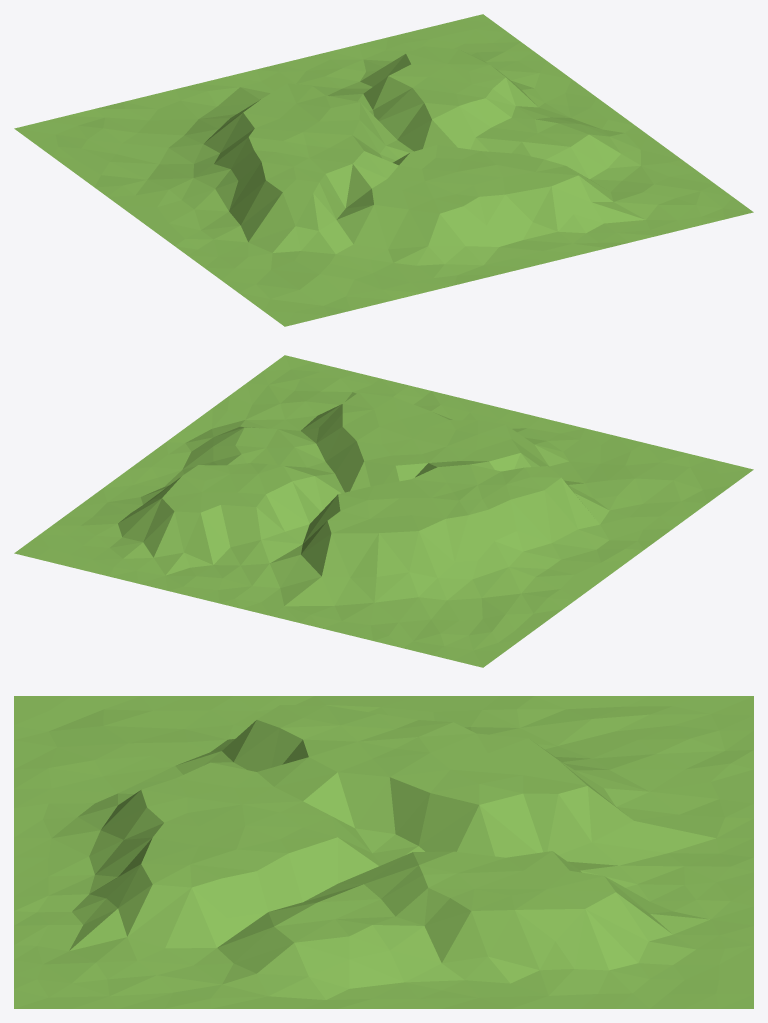
Rendered from MT_Terrain_M_c_18_LOD.fbx.
3 renders of one model, top to bottom at view 1: azimuth 30°, elevation 25°; view 2: azimuth 150°, elevation 25°; view 3: azimuth 270°, elevation 25°, orthographic. The views are drawn at different scales.
Visible parts, largest first — view 1: MT_Terrain_M_c_18_LOD0; view 2: MT_Terrain_M_c_18_LOD0; view 3: MT_Terrain_M_c_18_LOD0.
Part boxes in pixels (x1=…): MT_Terrain_M_c_18_LOD0: x1=14, y1=14, x2=753, y2=326; MT_Terrain_M_c_18_LOD0: x1=14, y1=355, x2=753, y2=667; MT_Terrain_M_c_18_LOD0: x1=14, y1=696, x2=753, y2=1008.
Size of what is drawn, in the model's own units: 5000 by 434 by 5000.
